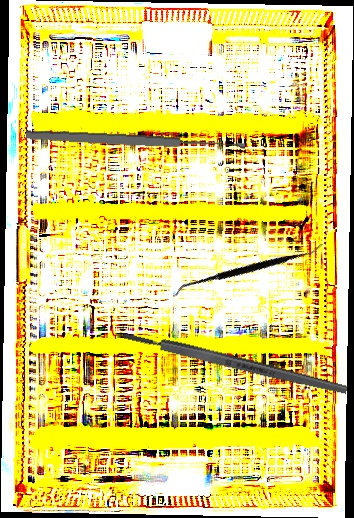Scalpel Handle: (121, 328, 349, 398)
Spatula Surgical: (173, 192, 324, 348)
Surgical Spoon: (25, 128, 246, 153)
